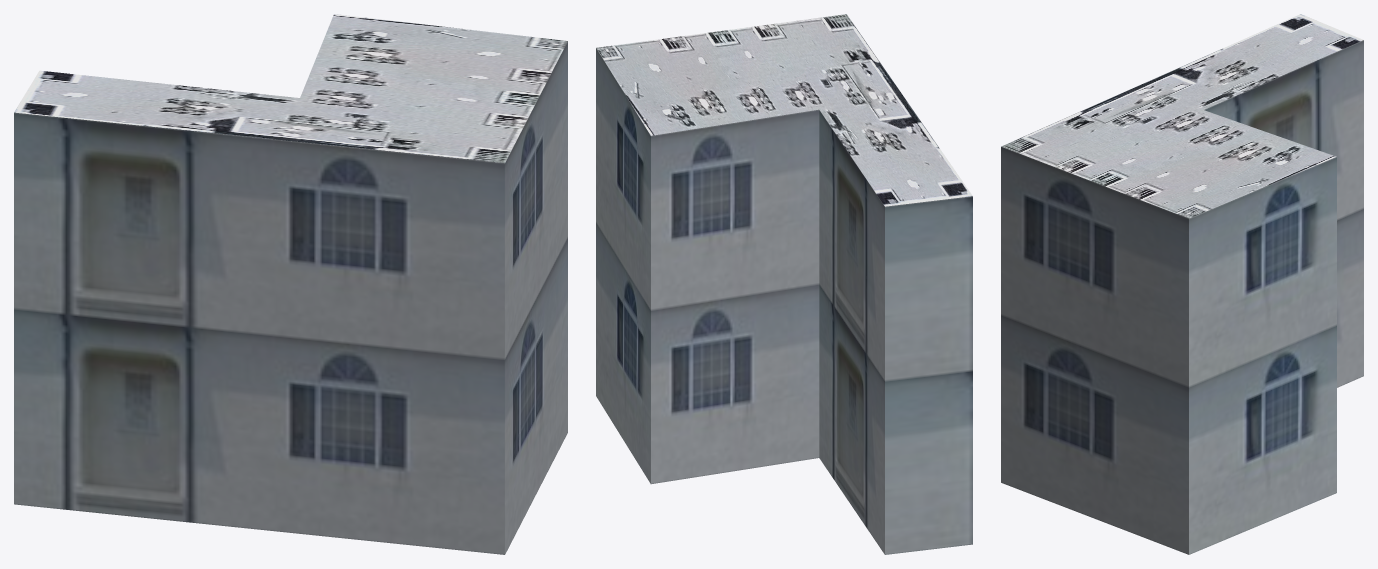
The model's file is ResTex__1663.fbx.
3 views of the same model, side by side, from view 1: azimuth 30°, elevation 25°; view 2: azimuth 150°, elevation 25°; view 3: azimuth 270°, elevation 25° (orthographic). The views are drawn at different scales.
Visible parts, largest first — view 1: CityEngineMaterial_17_m, CityEngineMaterial_m; view 2: CityEngineMaterial_17_m, CityEngineMaterial_m; view 3: CityEngineMaterial_17_m, CityEngineMaterial_m.
Part boxes in pixels (left/top/right/bottom): CityEngineMaterial_17_m: left=14, top=41, right=567, bottom=554; CityEngineMaterial_m: left=14, top=14, right=567, bottom=162; CityEngineMaterial_17_m: left=596, top=48, right=972, bottom=554; CityEngineMaterial_m: left=596, top=14, right=972, bottom=206; CityEngineMaterial_17_m: left=1001, top=40, right=1363, bottom=554; CityEngineMaterial_m: left=1001, top=14, right=1363, bottom=218.
Size of the model in its own units: 7.83 by 6 by 5.87.
Materials: 2 (2 with a texture image).
